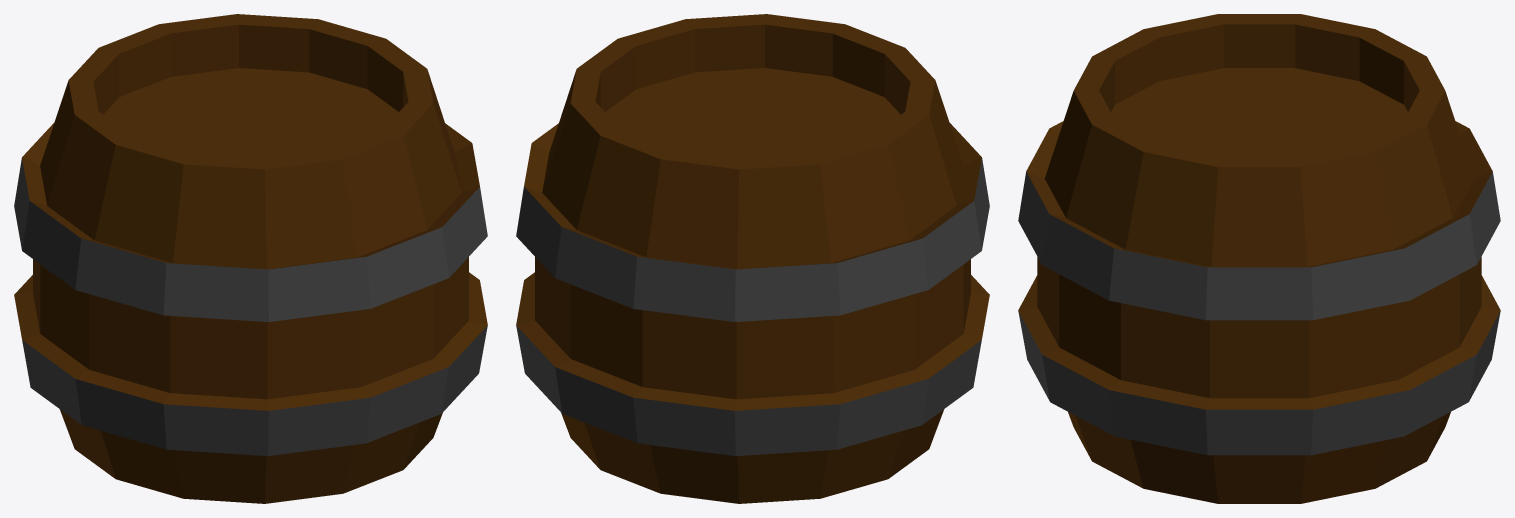
File: Barrel.fbx
3 renders of one model, left to right at view 1: azimuth 30°, elevation 25°; view 2: azimuth 150°, elevation 25°; view 3: azimuth 270°, elevation 25°, orthographic.
Parts seen in each view (by area): view 1: Cylinder, Cylinder.001; view 2: Cylinder, Cylinder.001; view 3: Cylinder, Cylinder.001.
Part boxes in pixels (<box>): Cylinder: <box>14,14,487,503</box>; Cylinder.001: <box>14,158,487,455</box>; Cylinder: <box>516,14,989,503</box>; Cylinder.001: <box>516,158,989,455</box>; Cylinder: <box>1018,14,1500,503</box>; Cylinder.001: <box>1018,171,1500,455</box>.
Size of the model in its own units: 253 by 200 by 260.
